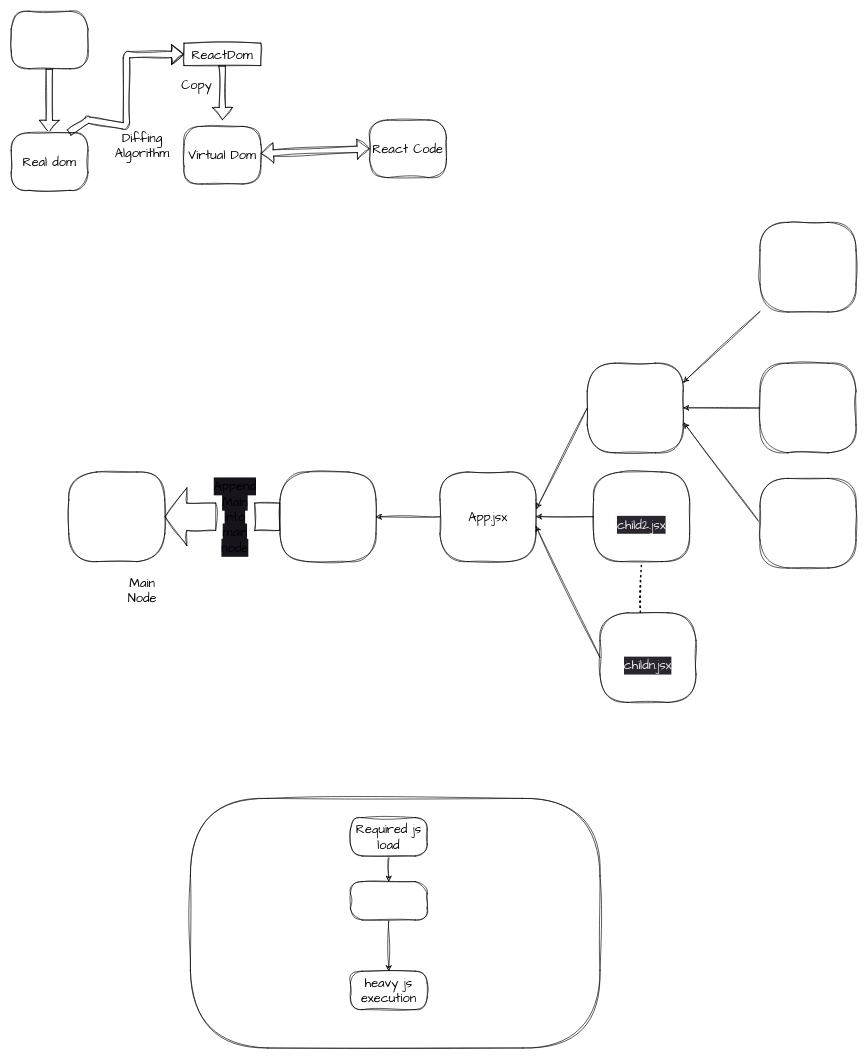
This 867x1059 diagram has some shape labels left out. Here are the shapes that lost their labels. From the top down, the centre of each, then its label:
(49,40): Index.html
(635,408): child1.jsx
(116,516): <Div id="root">
(327,516): Main.jsx
(388,900): Rendering component
